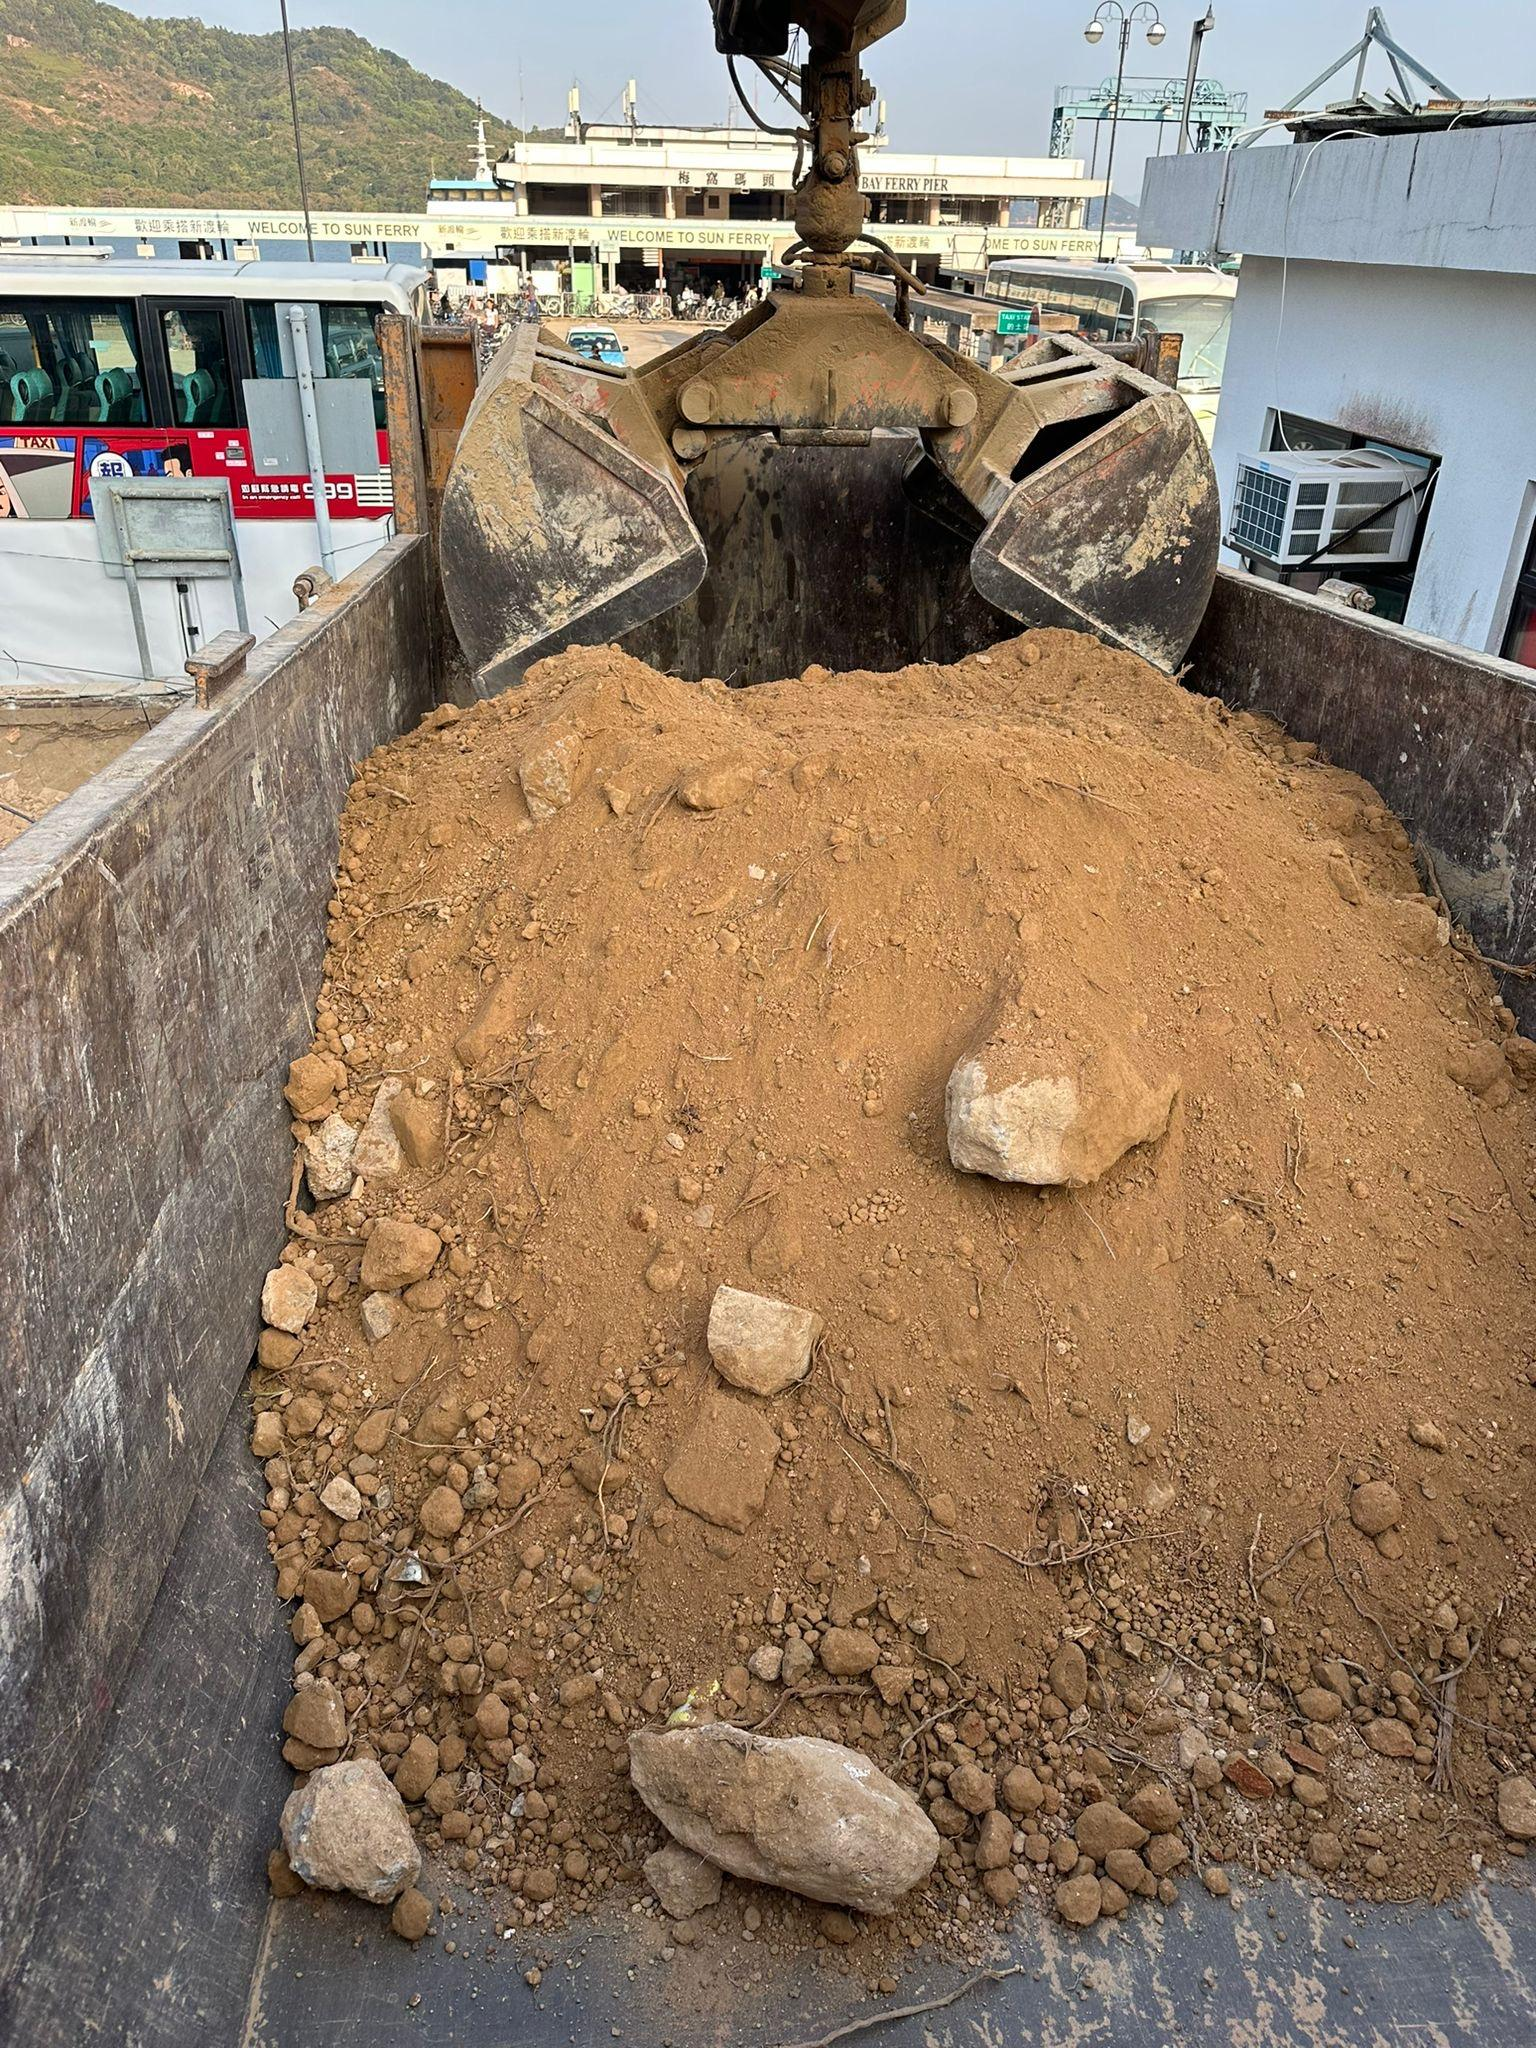dry: (347, 653, 1536, 1837)
